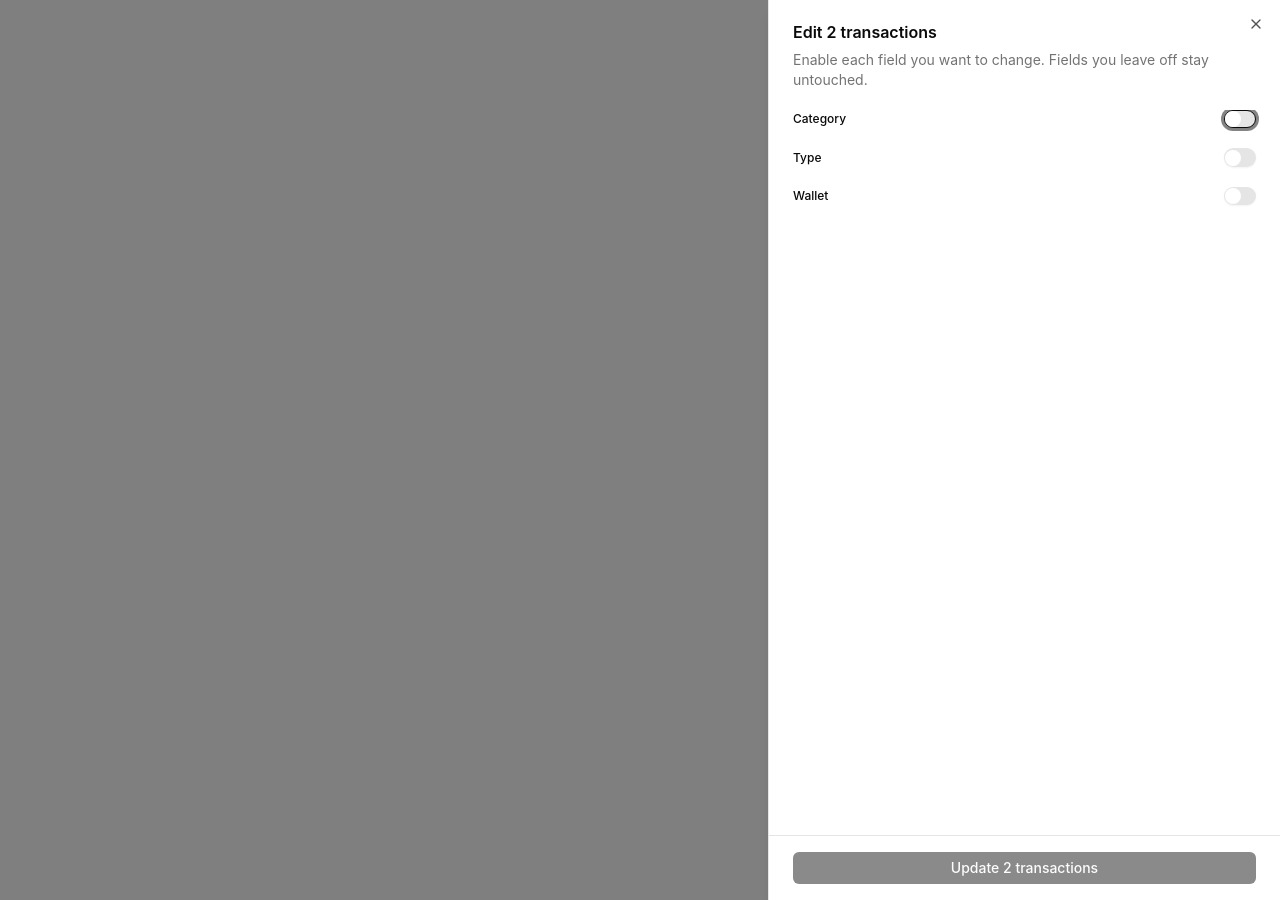
it: BulkEditSheet › does not submit until a field is enabled
Check: the button "Update 2 transactions" is disabled, box [793,852,1256,884]
Click the switch named "Change type" at (1240, 158), box [1224,148,1256,167]
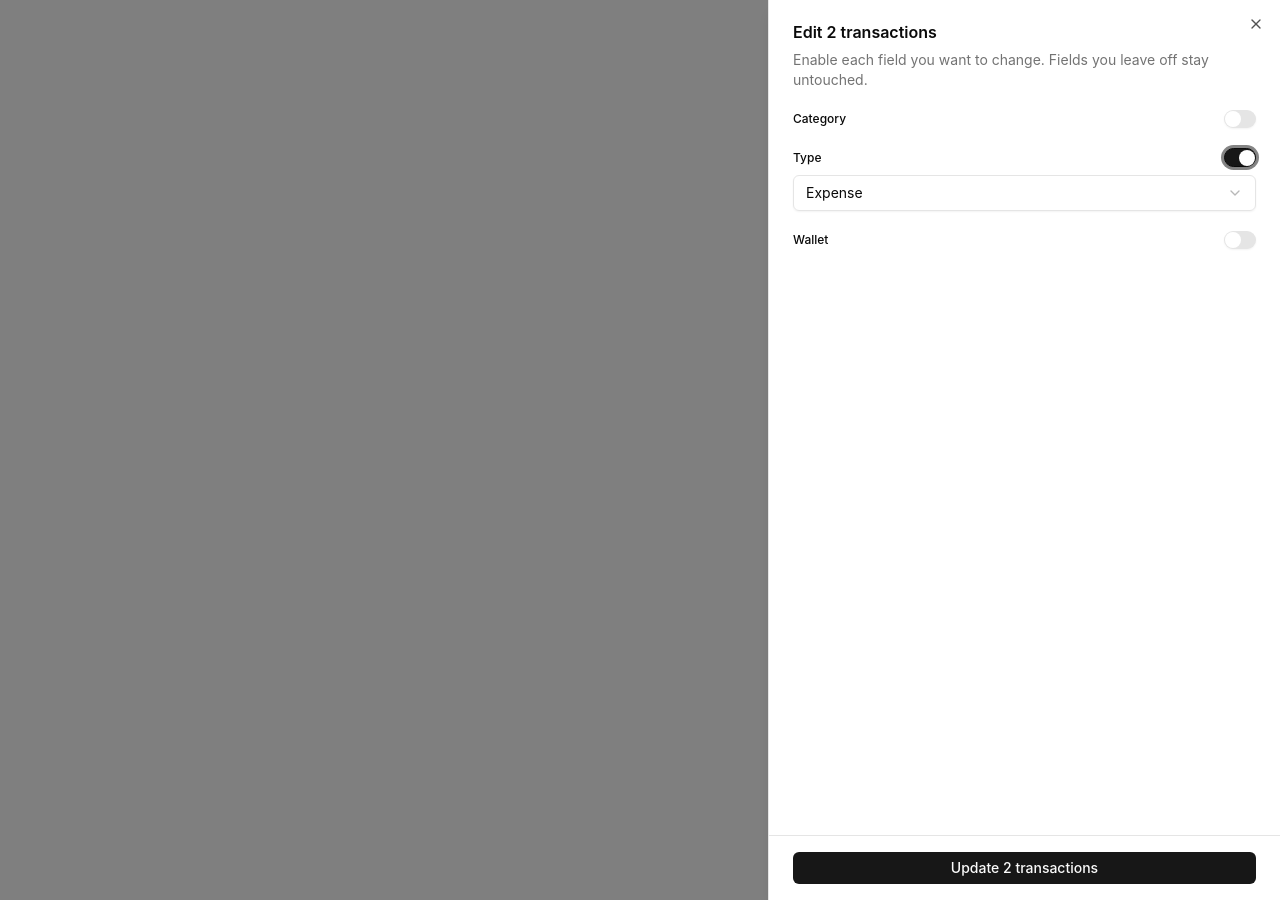
Check: the button "Update 2 transactions" is enabled, box [793,852,1256,884]
